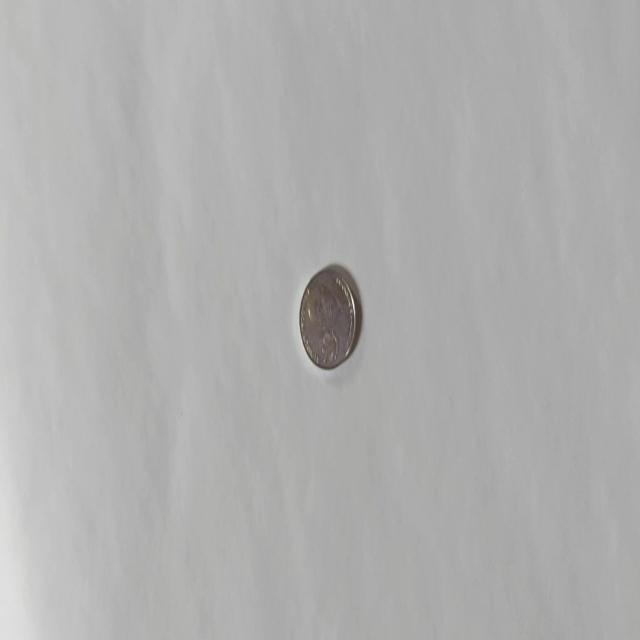lima ratus rupiah: (298, 265, 357, 371)
